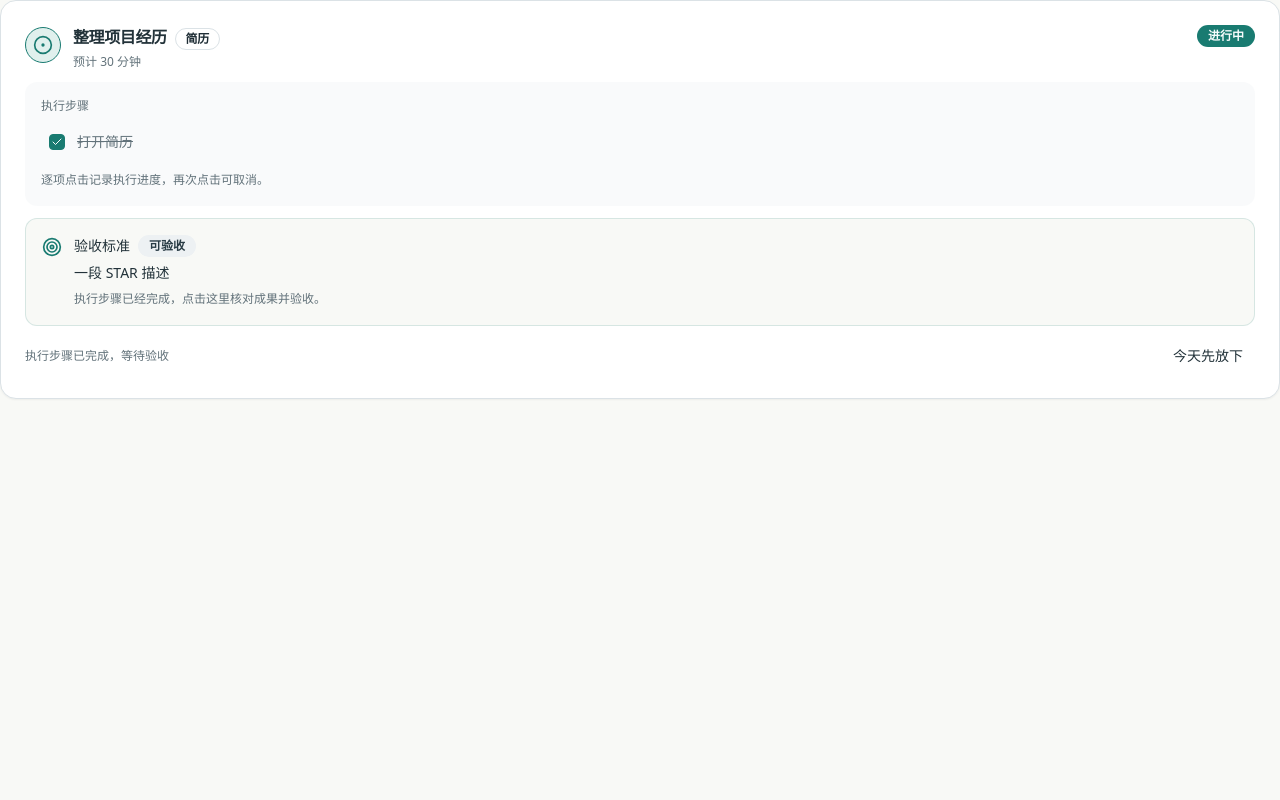
TaskCard › starts verification only after every execution step is complete
Click the button named "验收：整理项目经历".
click(43, 45)  # box [25,27,61,63]
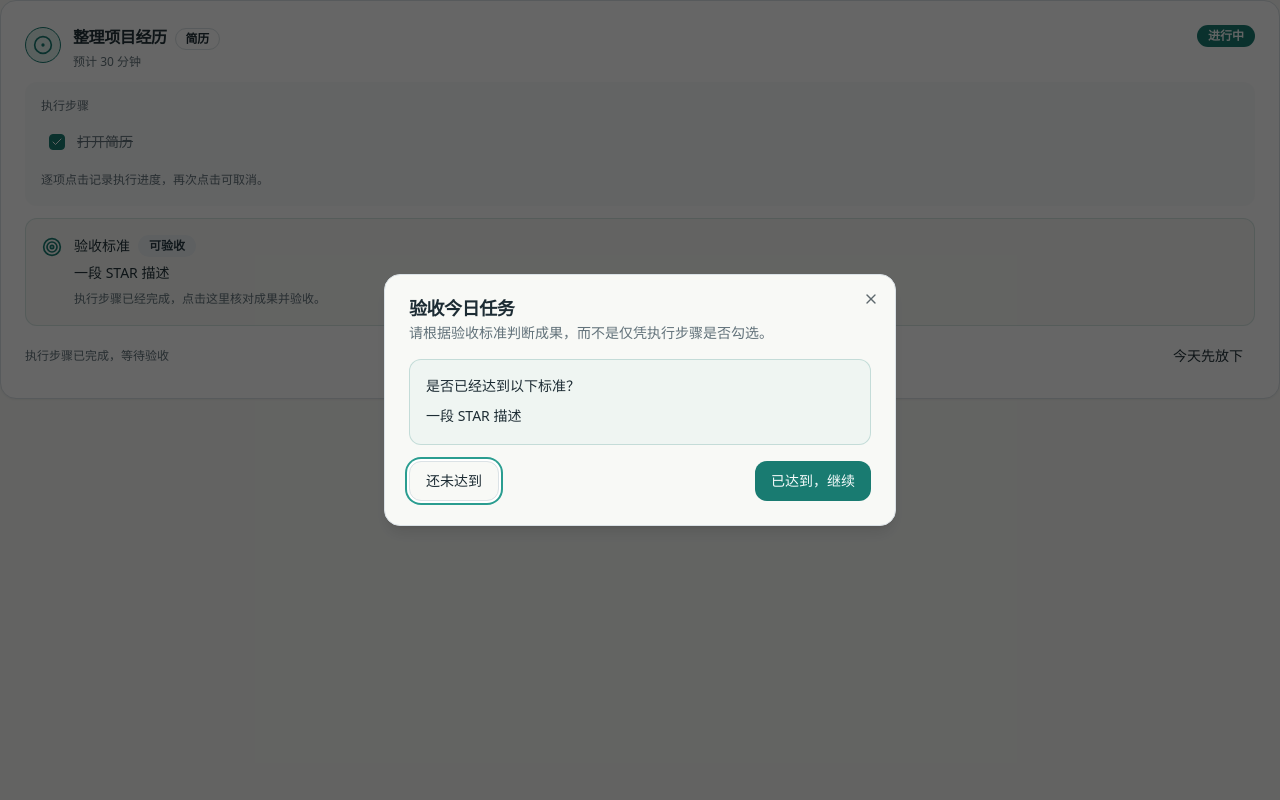
Check: the dialog is shown, box [384,274,896,526]
Check: the button "还未达到" is shown, box [409,461,499,501]
Check: the button "已达到，继续" is shown, box [755,461,871,501]
